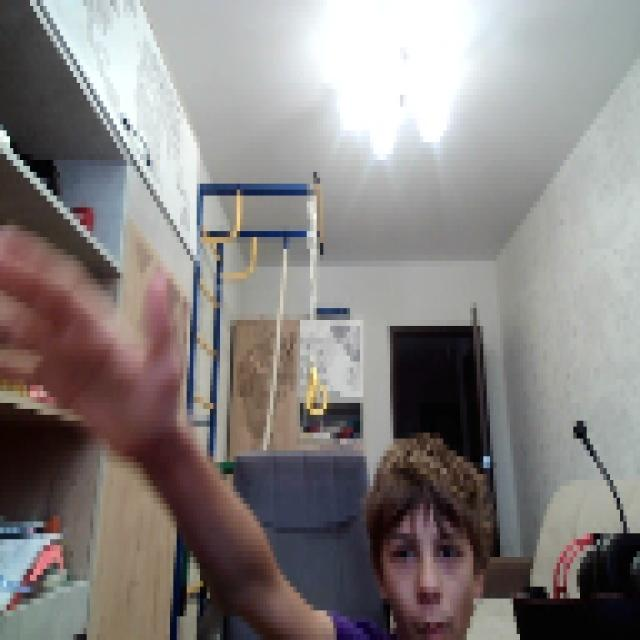hand: (0, 213, 180, 444)
